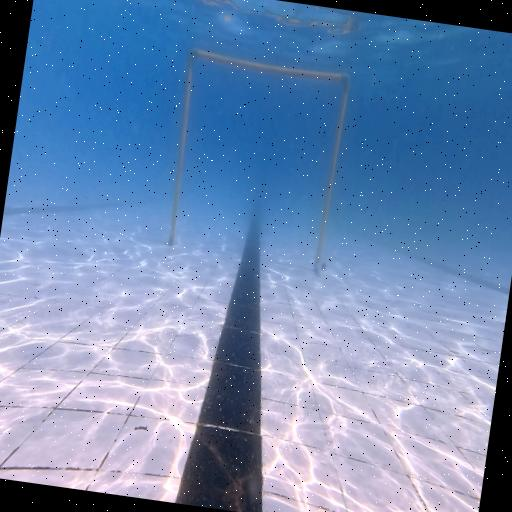gate: (162, 50, 353, 272)
